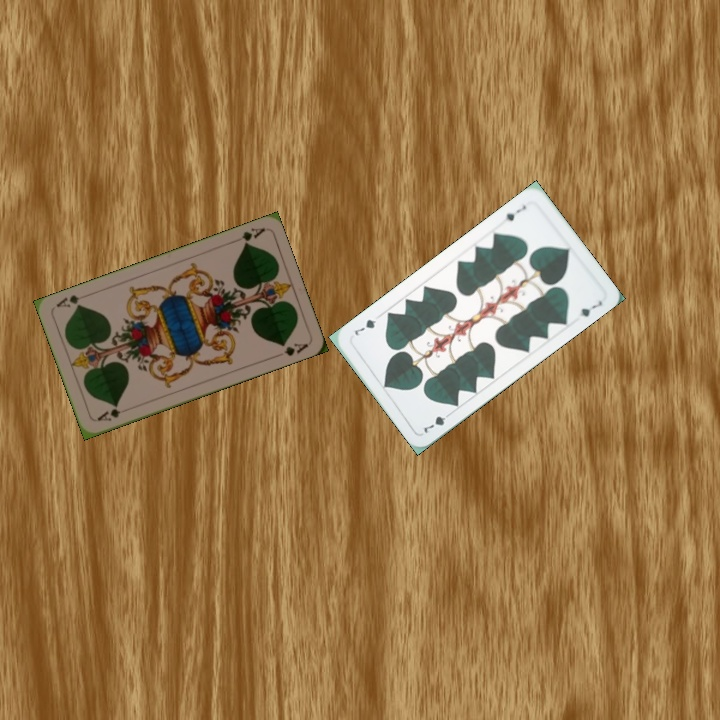G7: (420, 408, 455, 436), (497, 200, 528, 225)
GA: (228, 224, 267, 248), (93, 402, 132, 424)
